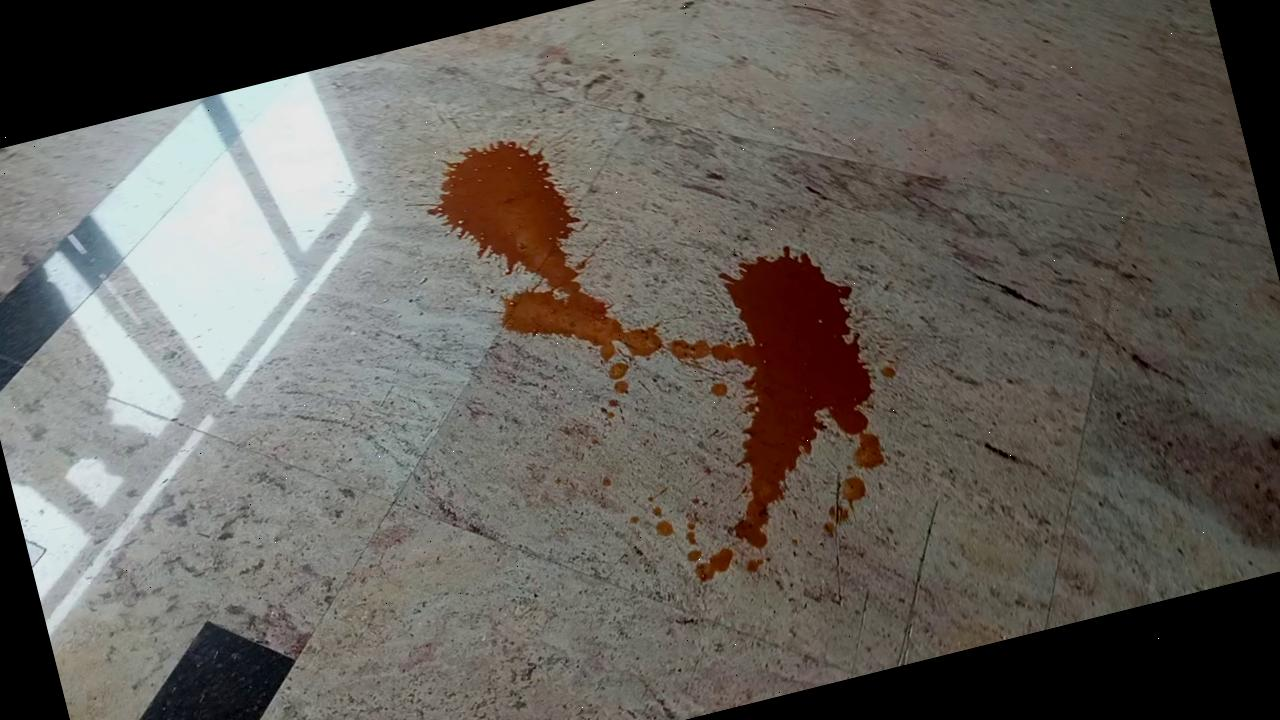dirty_floor: (418, 62, 912, 625)
